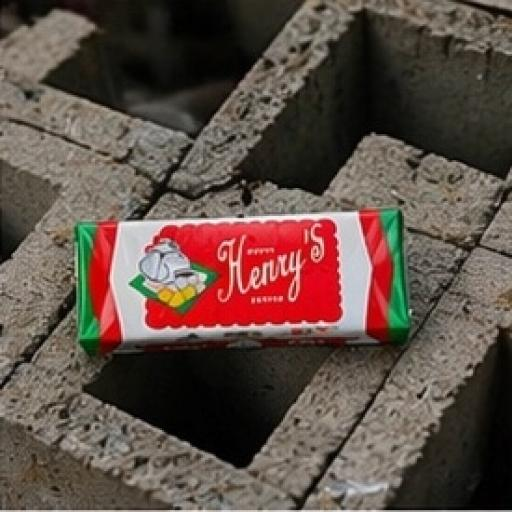golden: (35, 181, 443, 383)
